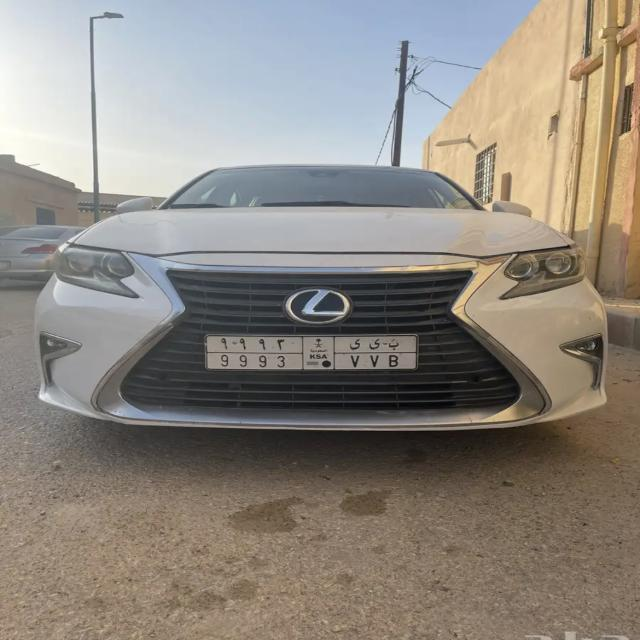license_plate: (206, 331, 420, 376)
